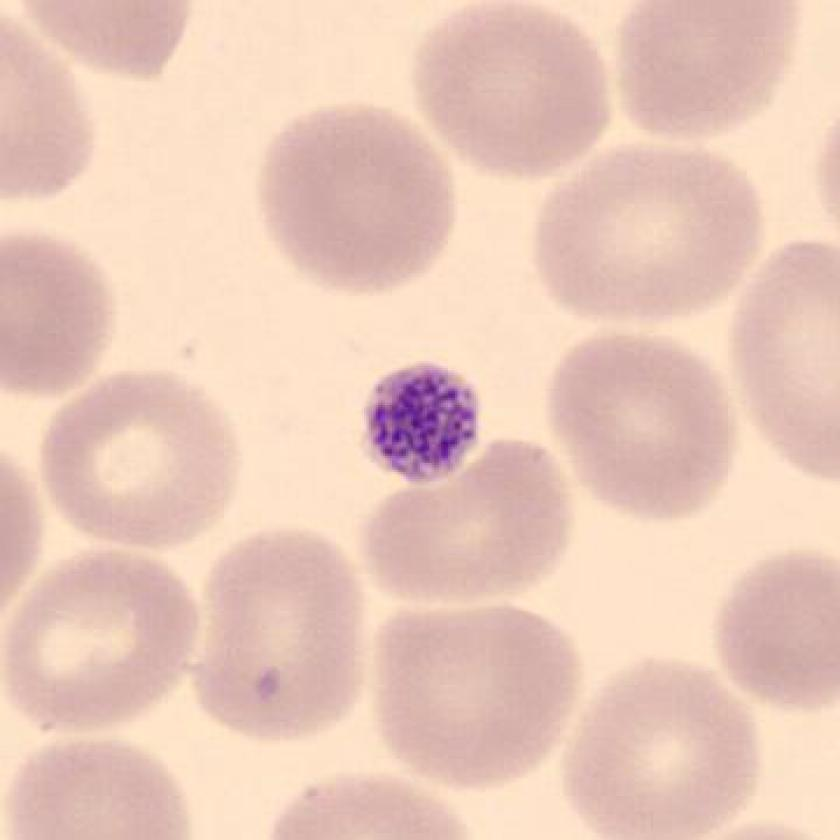platelets: (361, 358, 487, 492)
